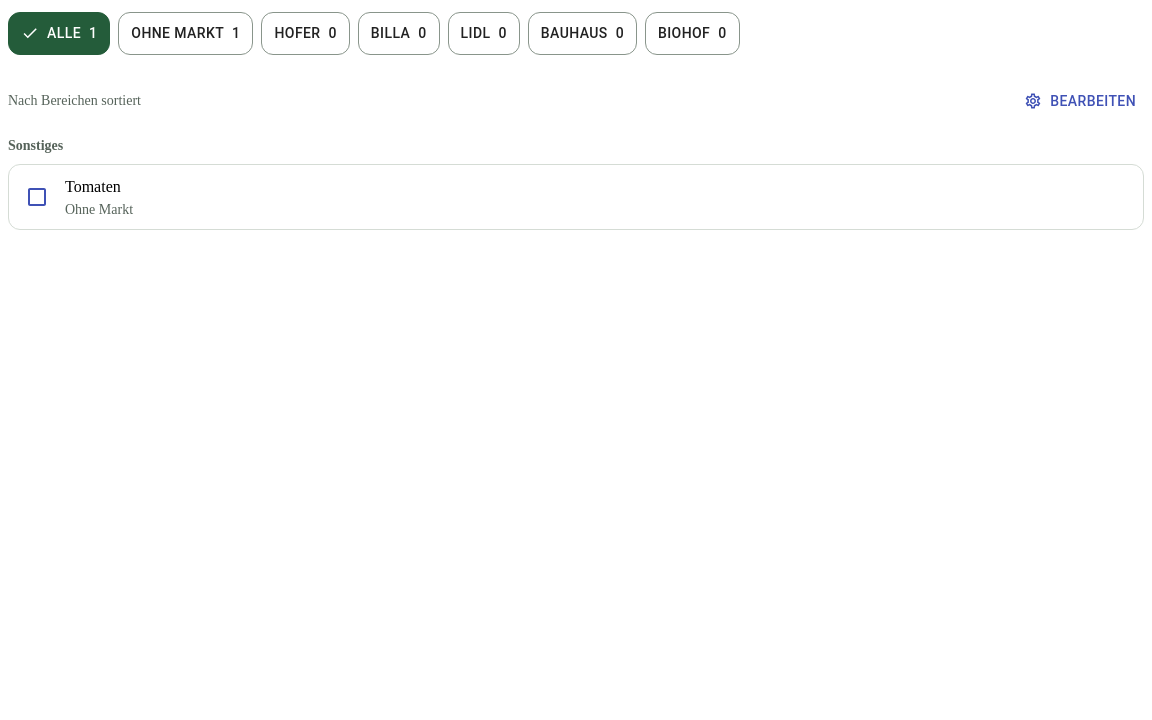
Test case: retains a failed name draft and retries the exact edit
Click the button "Bearbeiten" at (1080, 101), box [1016,82,1144,119]
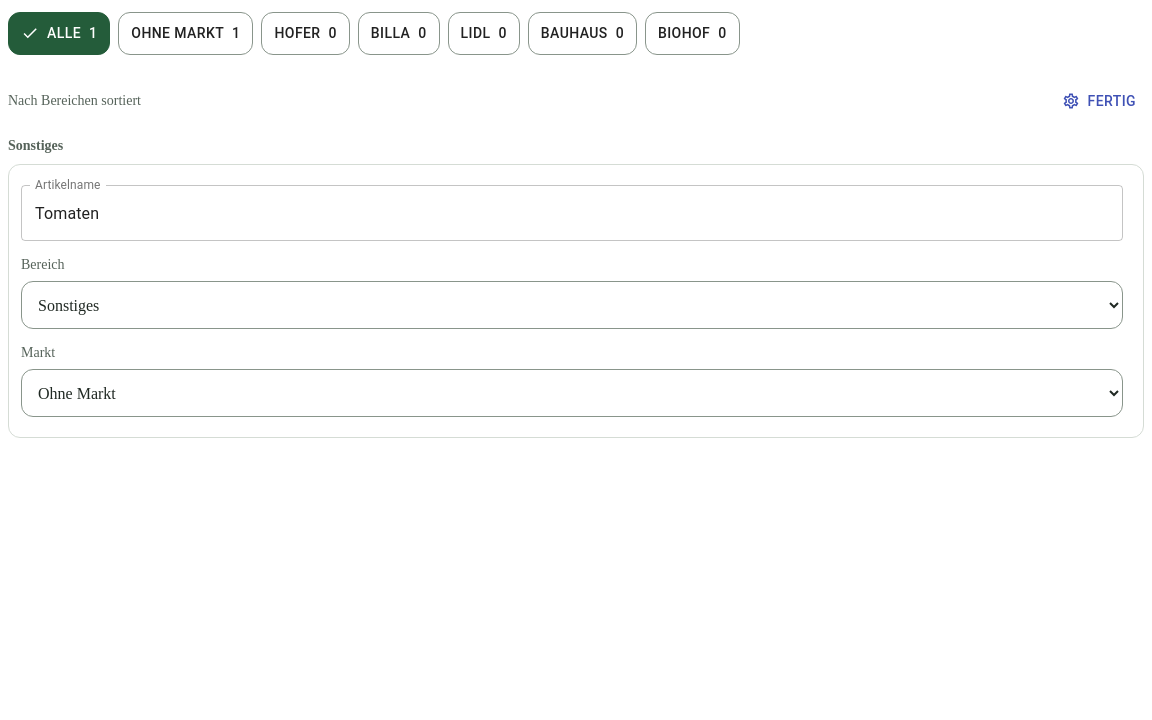
Replace the text in the field with id "grocery-name-tomato" with "Paradeiser" at (572, 213), box [21,185,1123,241]
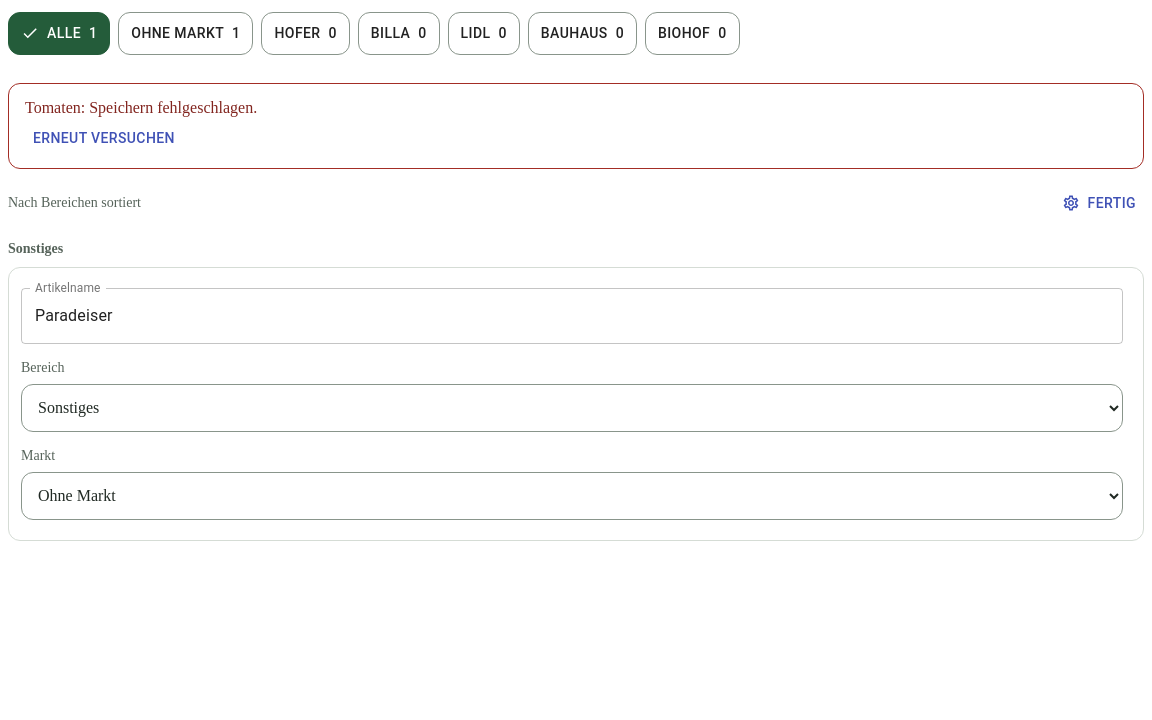
Check: the message "Tomaten: Speichern fehlgeschlagen. Erneut versuchen" is shown, box [8,82,1144,169]
Click the button "Erneut versuchen" at (104, 138), box [25,120,183,156]
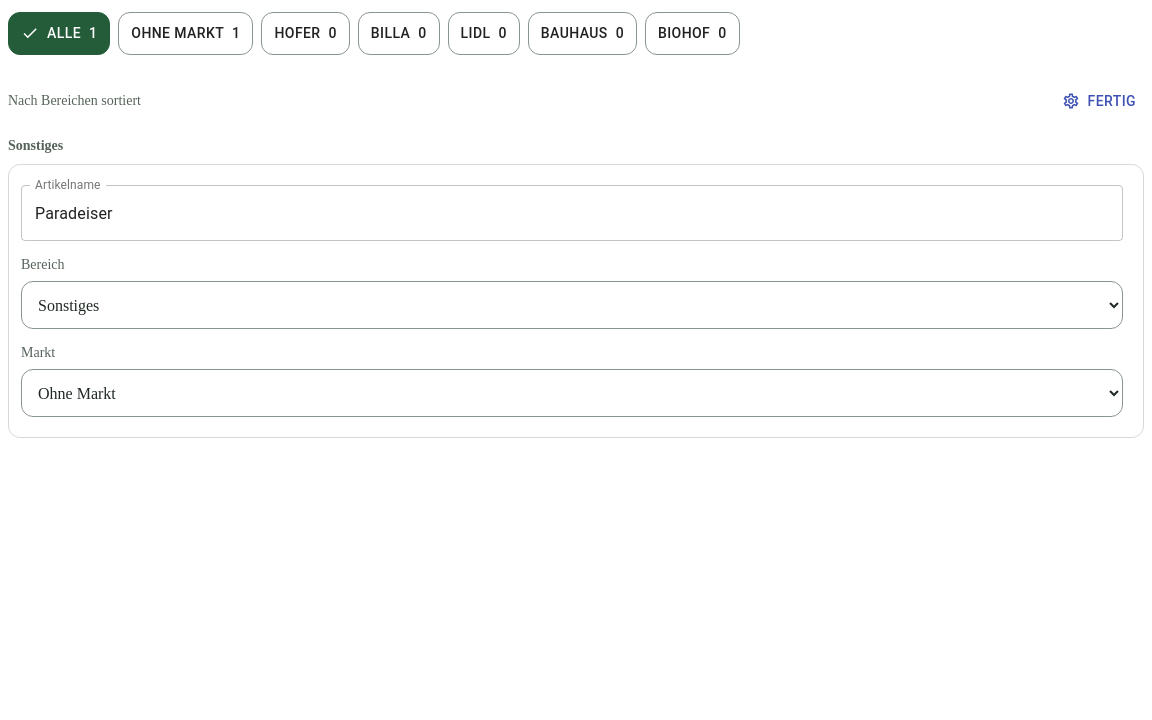
Check: the message "Tomaten: Speichern fehlgeschlagen. Erneut versuchen" is gone
